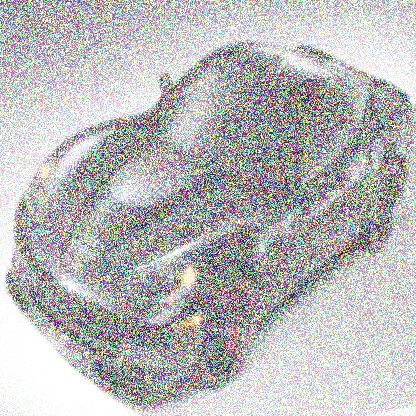Vehicle: (7, 38, 415, 408)
